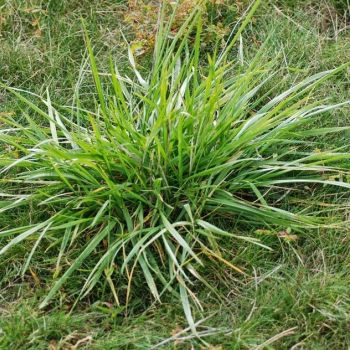crabgrass: (22, 90, 301, 269)
